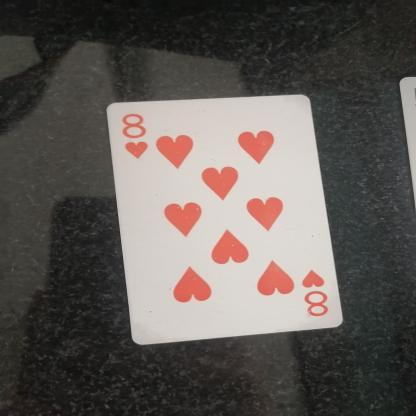8H: (294, 271, 335, 322), (118, 109, 154, 162)
